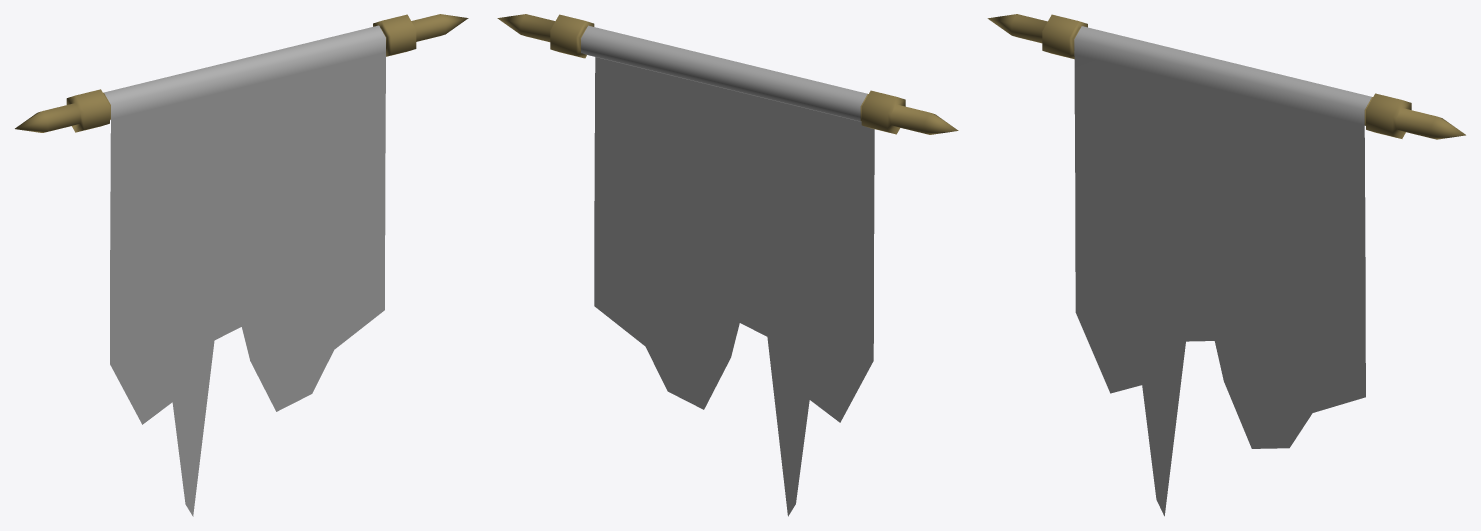
The model's file is banner_broken.fbx.
3 views of the same model, side by side, from view 1: azimuth 30°, elevation 25°; view 2: azimuth 150°, elevation 25°; view 3: azimuth 330°, elevation 25° (orthographic). The views are drawn at different scales.
Parts seen in each view (by area): view 1: banner_broken; view 2: banner_broken; view 3: banner_broken.
Part boxes in pixels (bbox=[...]): banner_broken: bbox=[15, 14, 468, 516]; banner_broken: bbox=[497, 14, 958, 516]; banner_broken: bbox=[987, 14, 1465, 516].
Bounding box in the file's own units: 134 × 126 × 9.09.
